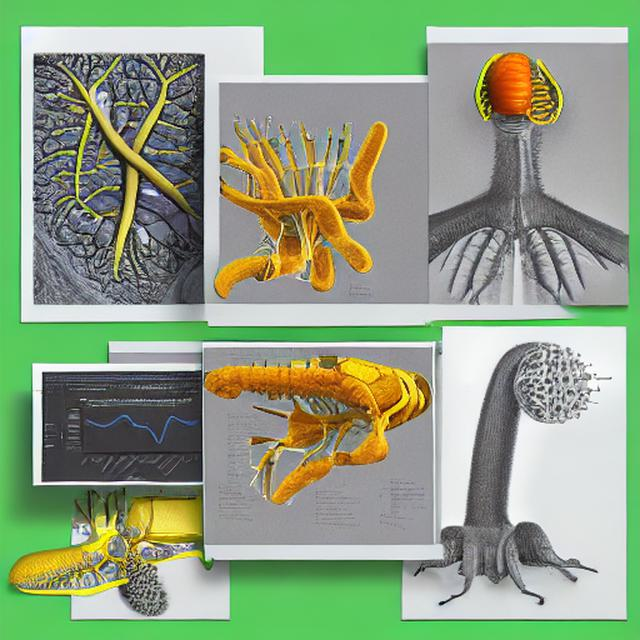Graph: (59, 396, 203, 481)
